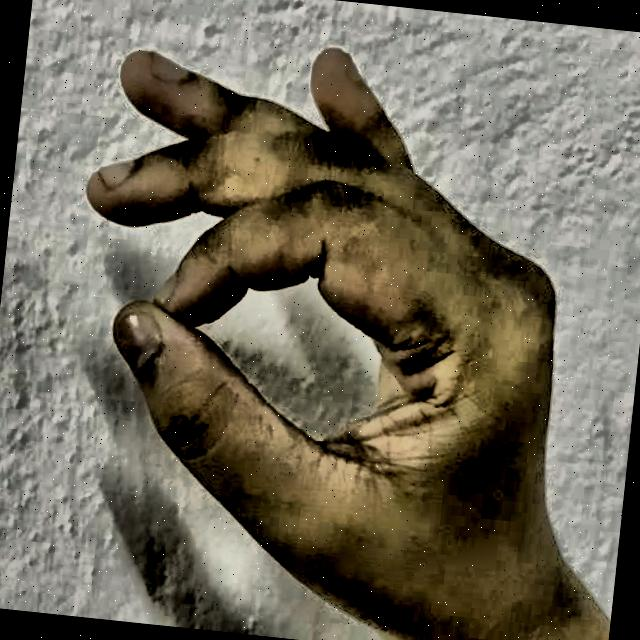Yo: (26, 4, 627, 640)
